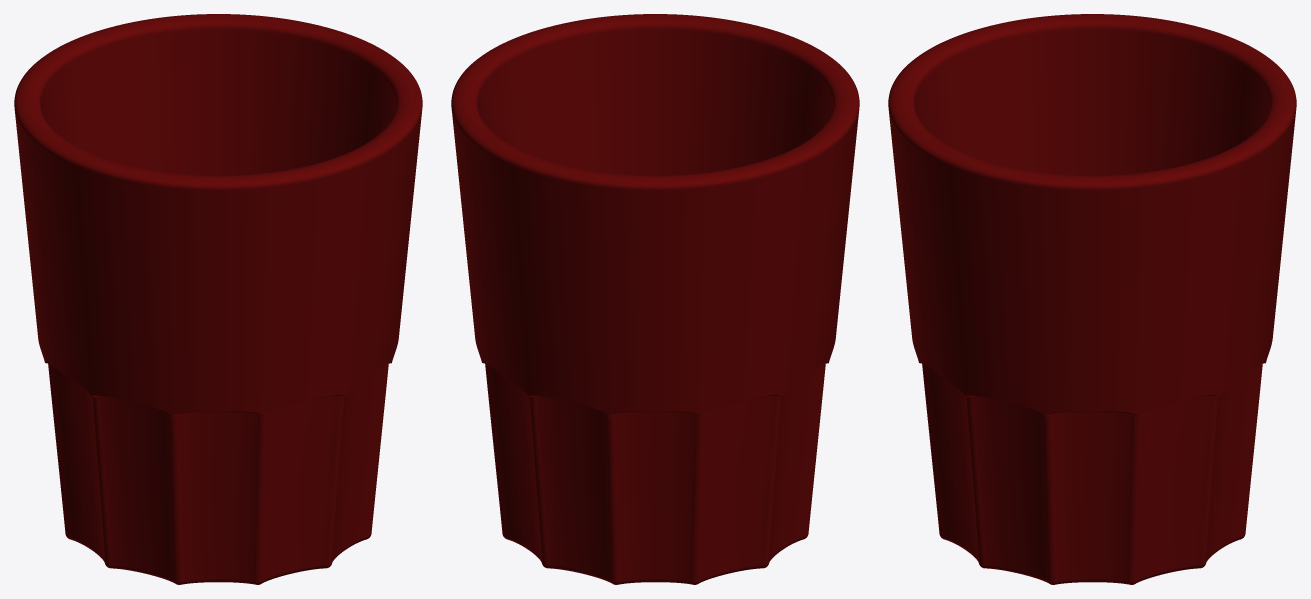
3 views of the same model, side by side, from view 1: azimuth 30°, elevation 25°; view 2: azimuth 150°, elevation 25°; view 3: azimuth 270°, elevation 25° (orthographic).
Bounding box in the file's own units: 0.062 × 0.0713 × 0.062.
